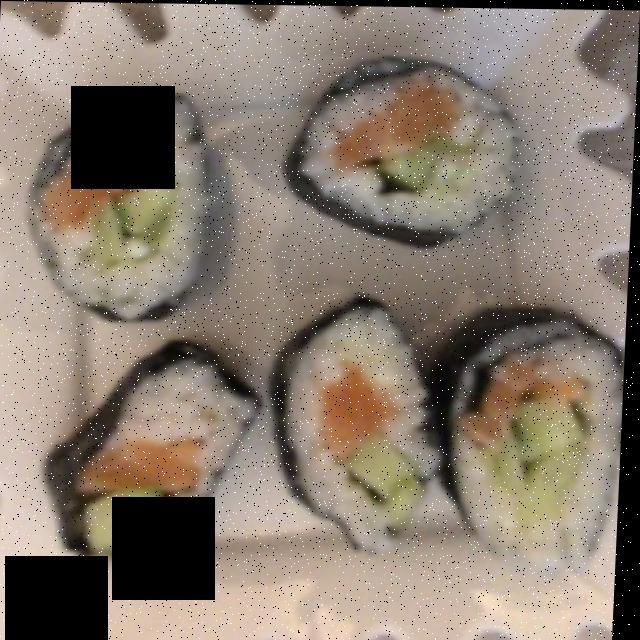sushi: (30, 45, 619, 579)
